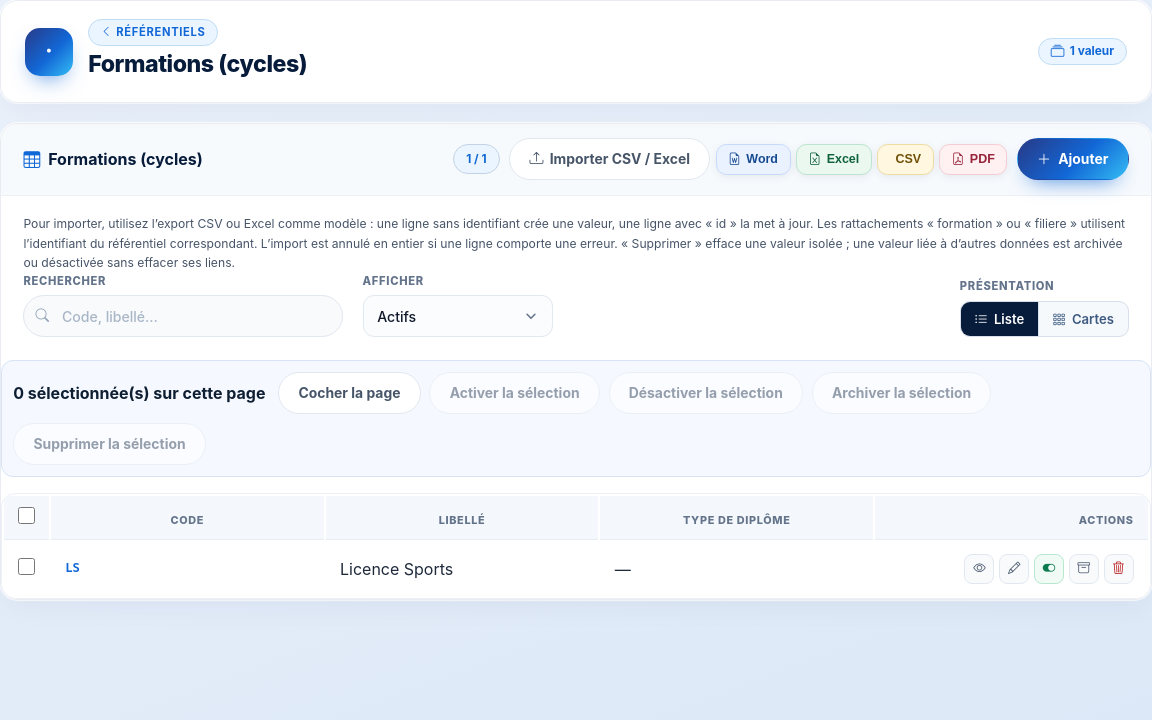
Test: plaquettes Offre de formation › propose aussi les cases à cocher en cartes et oublie la sélection après filtre
Click the button "Cartes": (1083, 319) [1038,302,1128,336]
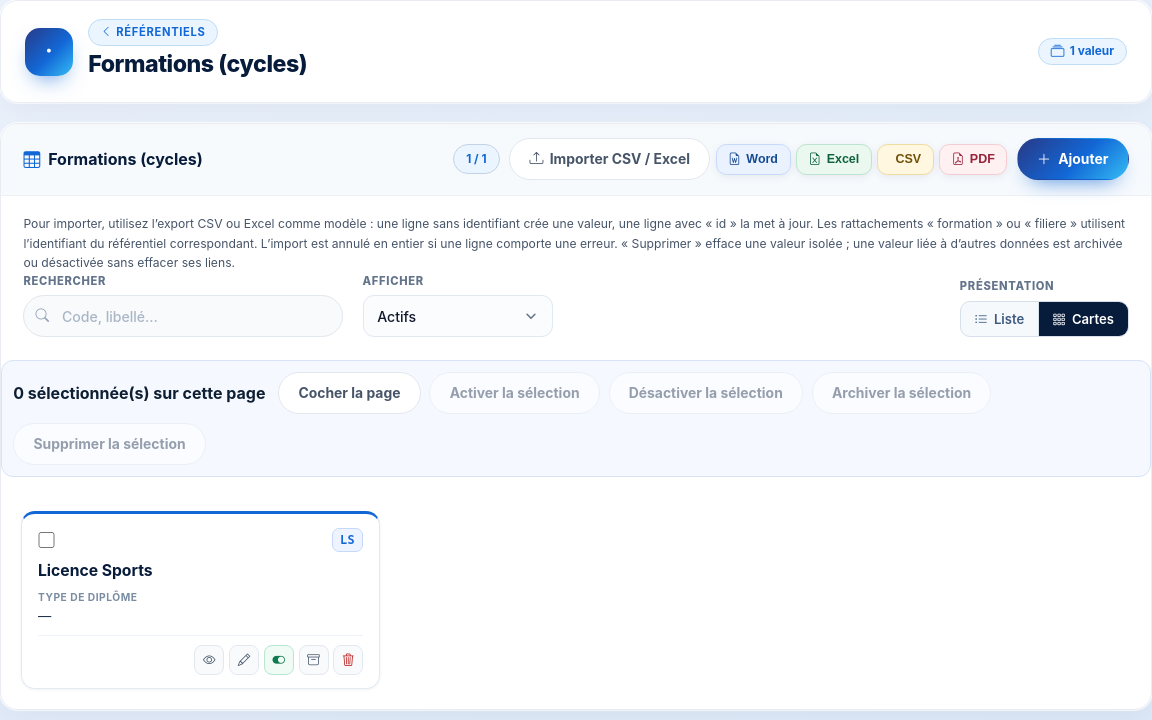
Click the checkbox named "Sélectionner Licence Sports": (46, 540) [38,532,55,548]
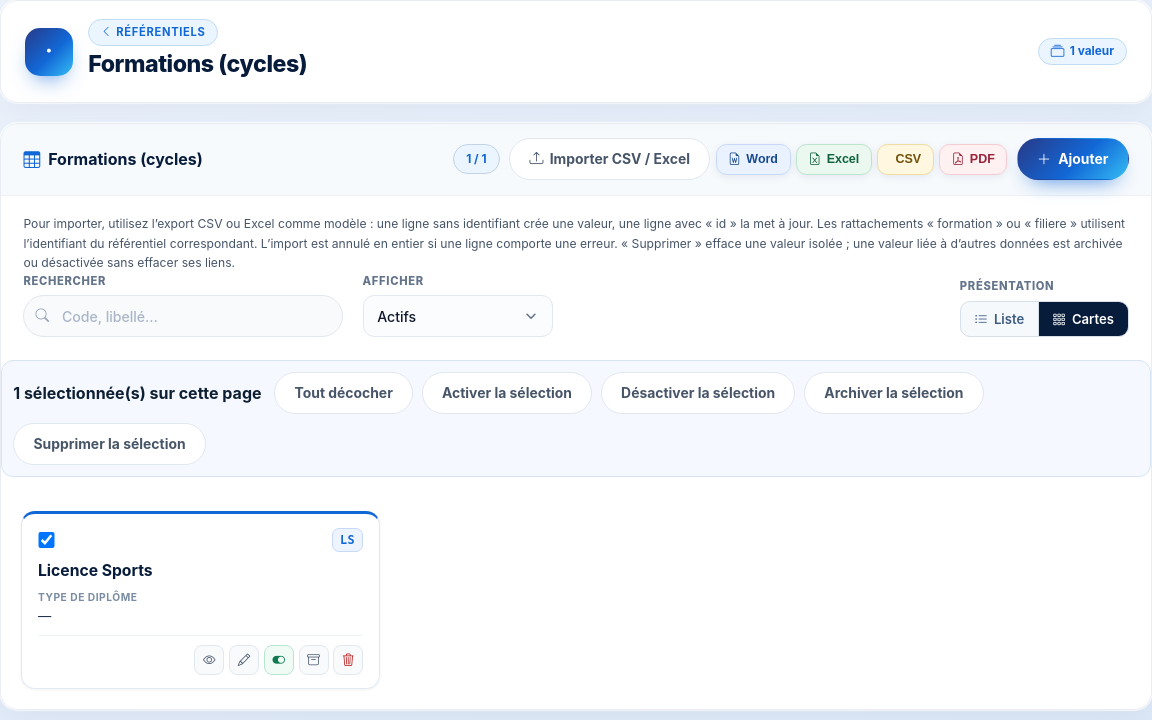
Expected: the button "Archiver la sélection" is enabled, [804,372,984,414]
In the search field labelled "Rechercher": (183, 316) [23,296,343,338], type "lic"
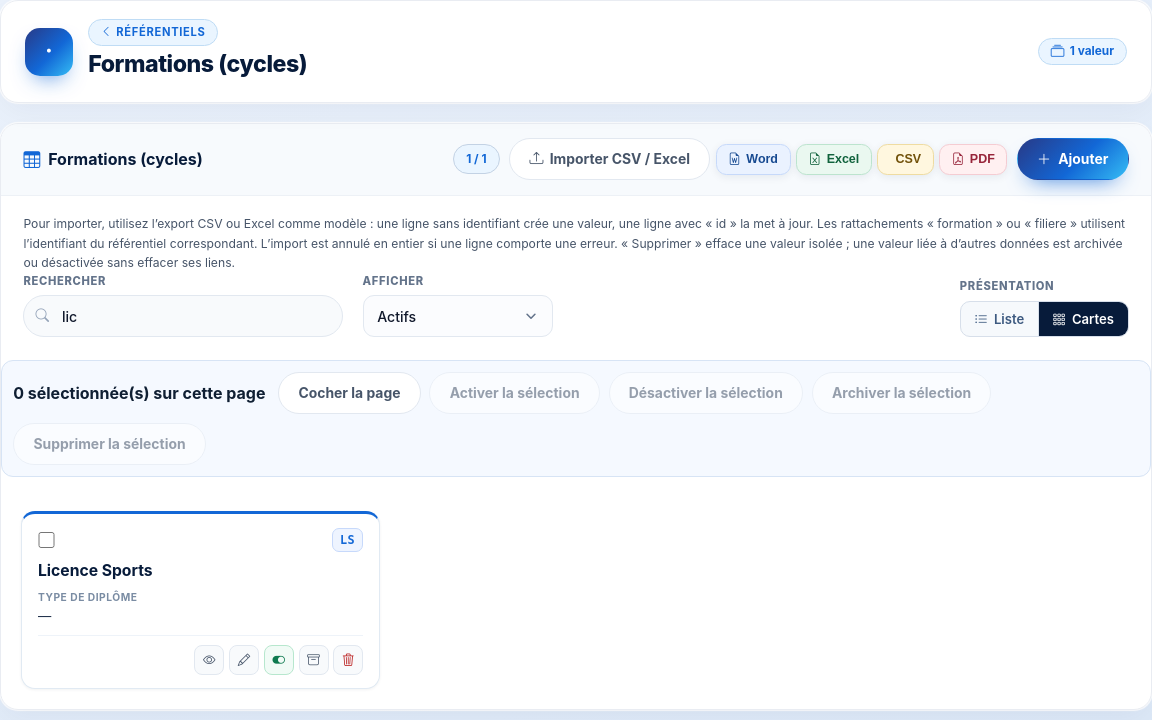
Expected: the button "Archiver la sélection" is disabled, [812,372,991,414]
